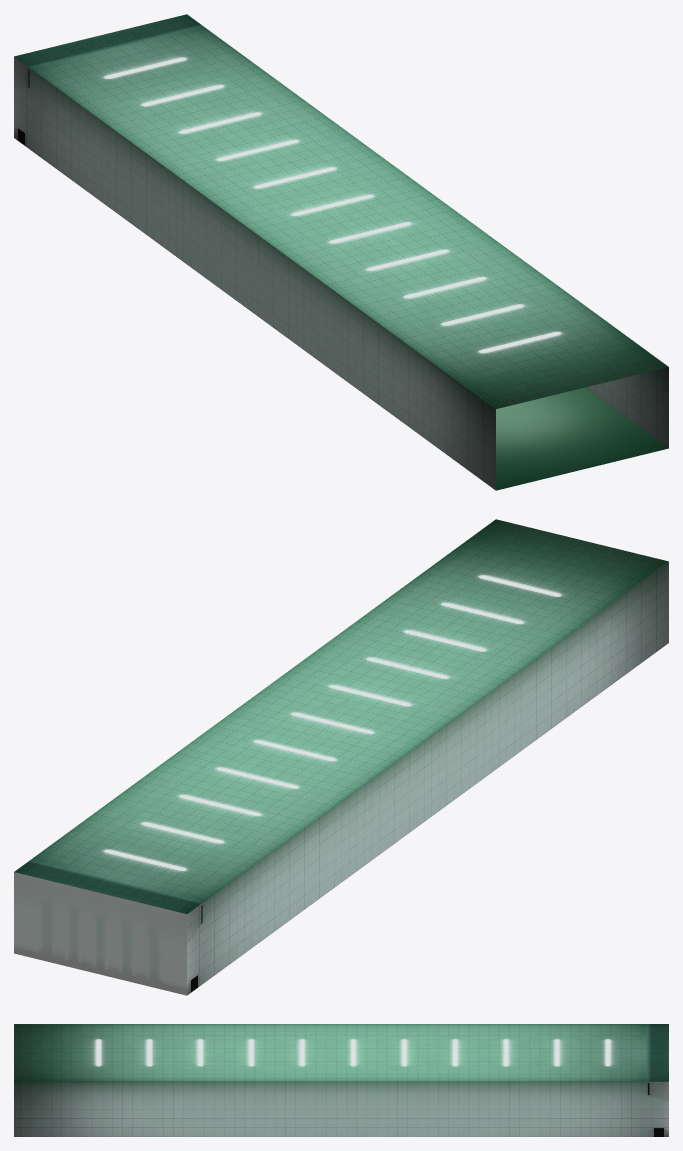
Rendered from env_indoor_03.glb.
The picture shows the model from 3 angles, top to bottom: view 1: azimuth 30°, elevation 25°; view 2: azimuth 150°, elevation 25°; view 3: azimuth 270°, elevation 25°; orthographic projection. The views are drawn at different scales.
Visible parts, largest first — view 1: ceiling, wall_l, floor, wall_r; view 2: ceiling, wall_l, backstop; view 3: ceiling, wall_r.
Part boxes in pixels (<box>): ceiling: <box>14,14,668,408</box>; wall_l: <box>14,56,495,490</box>; floor: <box>496,387,668,490</box>; wall_r: <box>586,367,668,448</box>; ceiling: <box>14,519,668,913</box>; wall_l: <box>187,561,668,995</box>; backstop: <box>14,872,186,995</box>; ceiling: <box>14,1024,668,1081</box>; wall_r: <box>14,1081,668,1136</box>.
Size of the model in its own units: 8 by 3.6 by 38.6.
5 materials, 5 textured.
